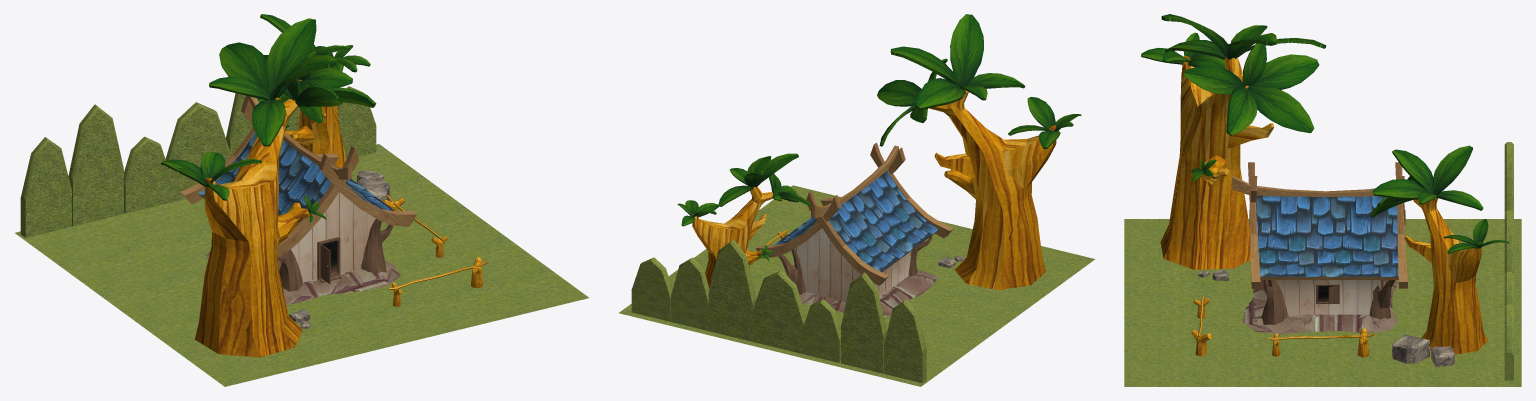
File: casaC32.glb
The picture shows the model from 3 angles, left to right: view 1: azimuth 30°, elevation 25°; view 2: azimuth 150°, elevation 25°; view 3: azimuth 270°, elevation 25°; orthographic projection. The views are drawn at different scales.
Parts seen in each view (by area): view 1: Object_6, Object_4, Object_5, Object_9, Object_8, Object_2, Object_10, Object_11, Object_7; view 2: Object_6, Object_4, Object_5, Object_2, Object_9, Object_8, Object_11, Object_10; view 3: Object_6, Object_4, Object_5, Object_2, Object_9, Object_11, Object_8, Object_10, Object_7.
Boxes of the visible parts, x1,y1,x2,y2 form: Object_6: [15, 86, 588, 386]; Object_4: [195, 79, 488, 357]; Object_5: [160, 14, 376, 222]; Object_9: [180, 96, 416, 256]; Object_8: [278, 192, 375, 282]; Object_2: [198, 132, 394, 225]; Object_10: [278, 218, 393, 291]; Object_11: [205, 252, 400, 304]; Object_7: [289, 170, 389, 328]; Object_6: [618, 185, 1095, 386]; Object_4: [692, 90, 1056, 290]; Object_5: [677, 14, 1081, 260]; Object_2: [774, 171, 938, 271]; Object_9: [755, 142, 953, 285]; Object_8: [790, 228, 912, 301]; Object_11: [799, 270, 937, 317]; Object_10: [778, 236, 932, 294]; Object_6: [1124, 142, 1521, 386]; Object_4: [1160, 56, 1488, 357]; Object_5: [1141, 14, 1509, 253]; Object_2: [1256, 195, 1398, 276]; Object_9: [1232, 162, 1407, 288]; Object_11: [1242, 280, 1398, 334]; Object_8: [1276, 280, 1380, 315]; Object_10: [1254, 280, 1395, 324]; Object_7: [1198, 270, 1454, 367].
Bounding box in the file's own units: 13.69 × 9.85 × 13.29.
Materials: 10 (10 with a texture image).
